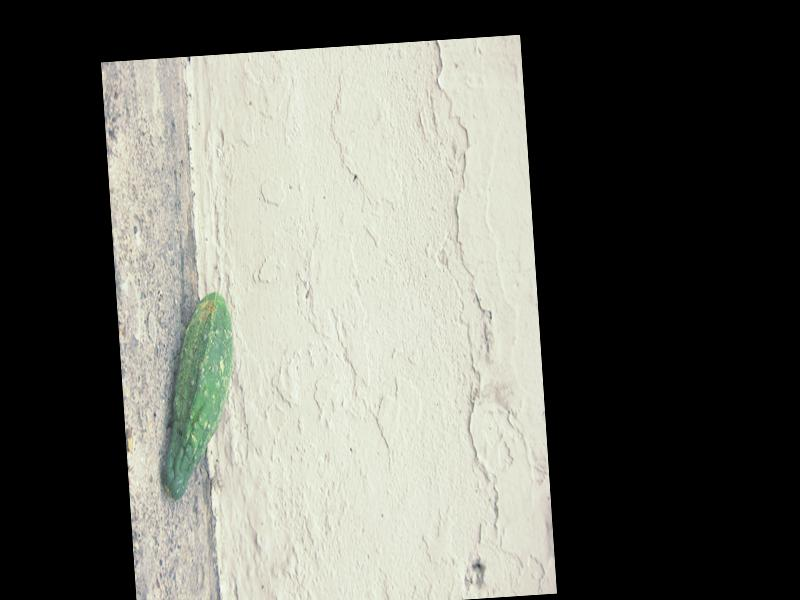Cucumber: (151, 291, 243, 497)
